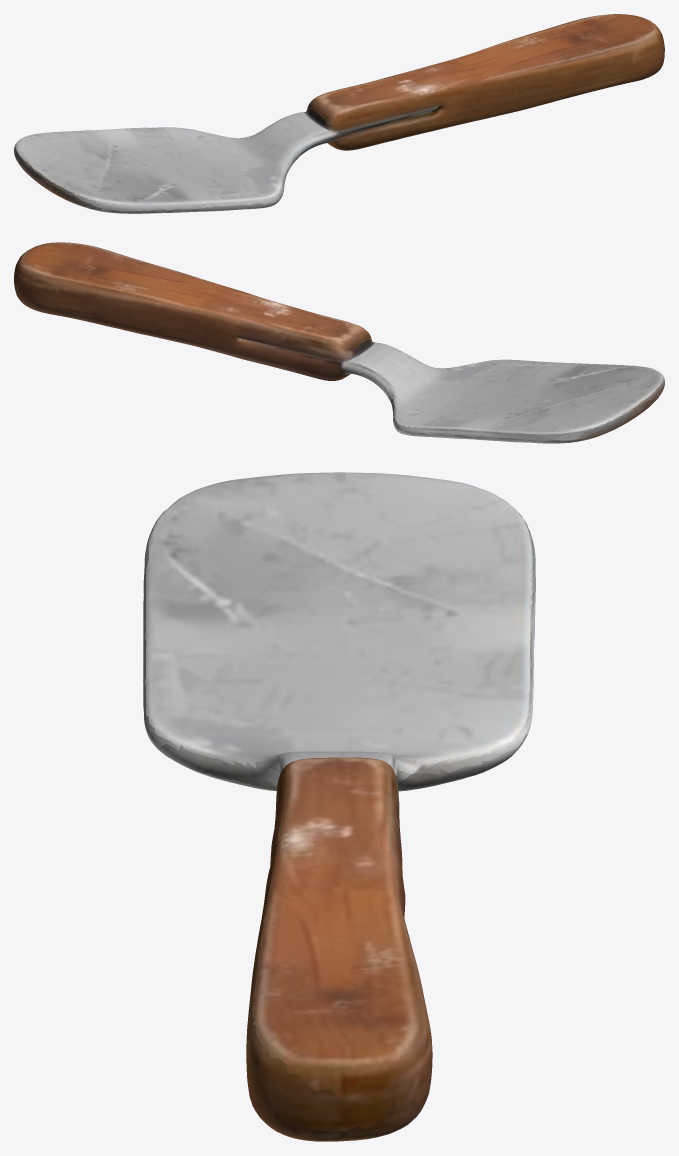
The model's file is naiwa_spatula.glb.
3 views of the same model, one above another, from view 1: azimuth 30°, elevation 25°; view 2: azimuth 150°, elevation 25°; view 3: azimuth 270°, elevation 25° (orthographic). The views are drawn at different scales.
Visible parts, largest first — view 1: geometry_0; view 2: geometry_0; view 3: geometry_0.
Boxes of the visible parts, left/top/right/bottom form: geometry_0: left=14, top=14, right=664, bottom=213; geometry_0: left=14, top=242, right=664, bottom=443; geometry_0: left=143, top=472, right=535, bottom=1141.
Size of the model in its own units: 0.28 by 0.0242 by 0.0768.
1 material, 1 textured.
